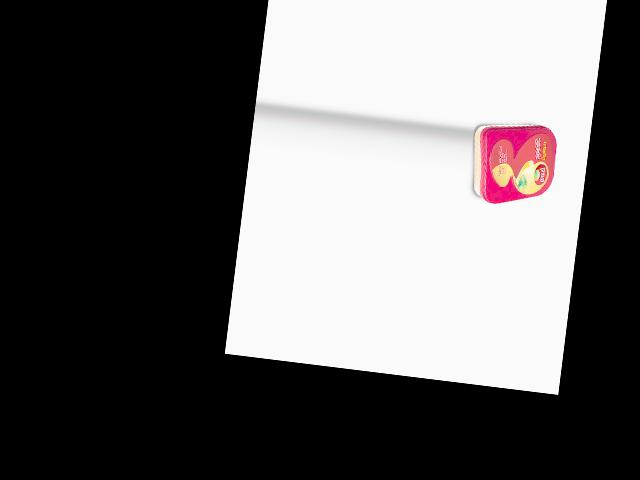cheese: (466, 117, 559, 210)
